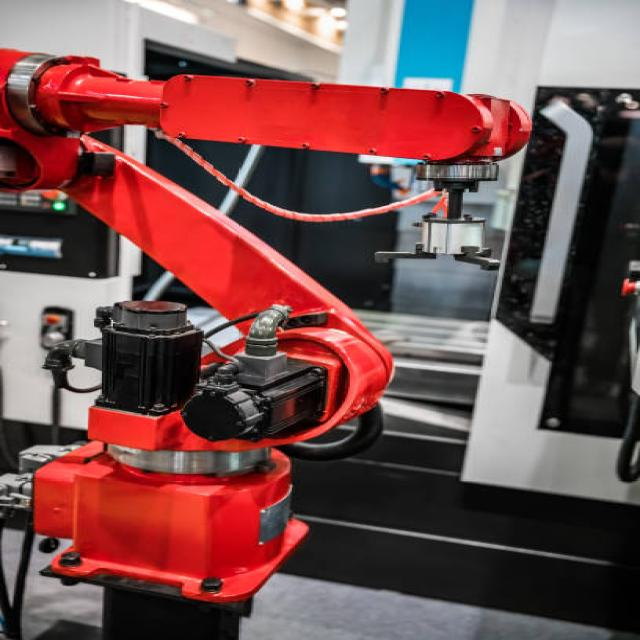Robotic-arm: (0, 40, 546, 612)
